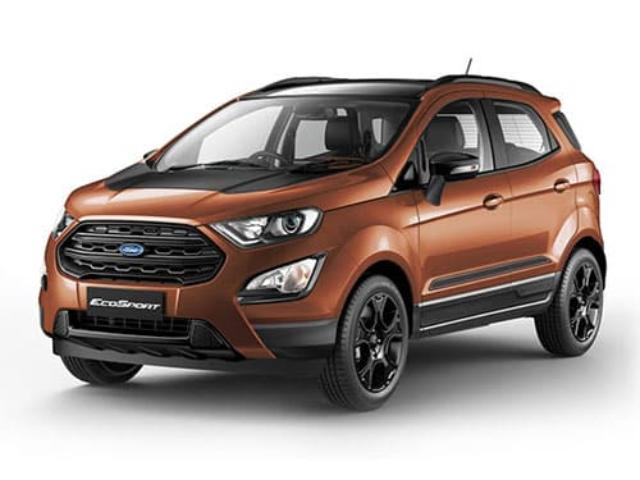ford: (39, 60, 607, 410)
